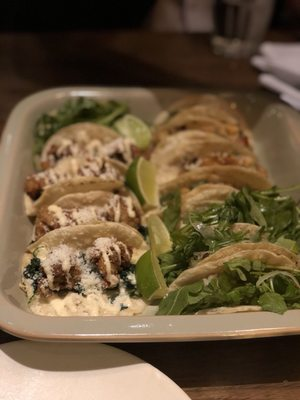pizza: (208, 0, 278, 61)
